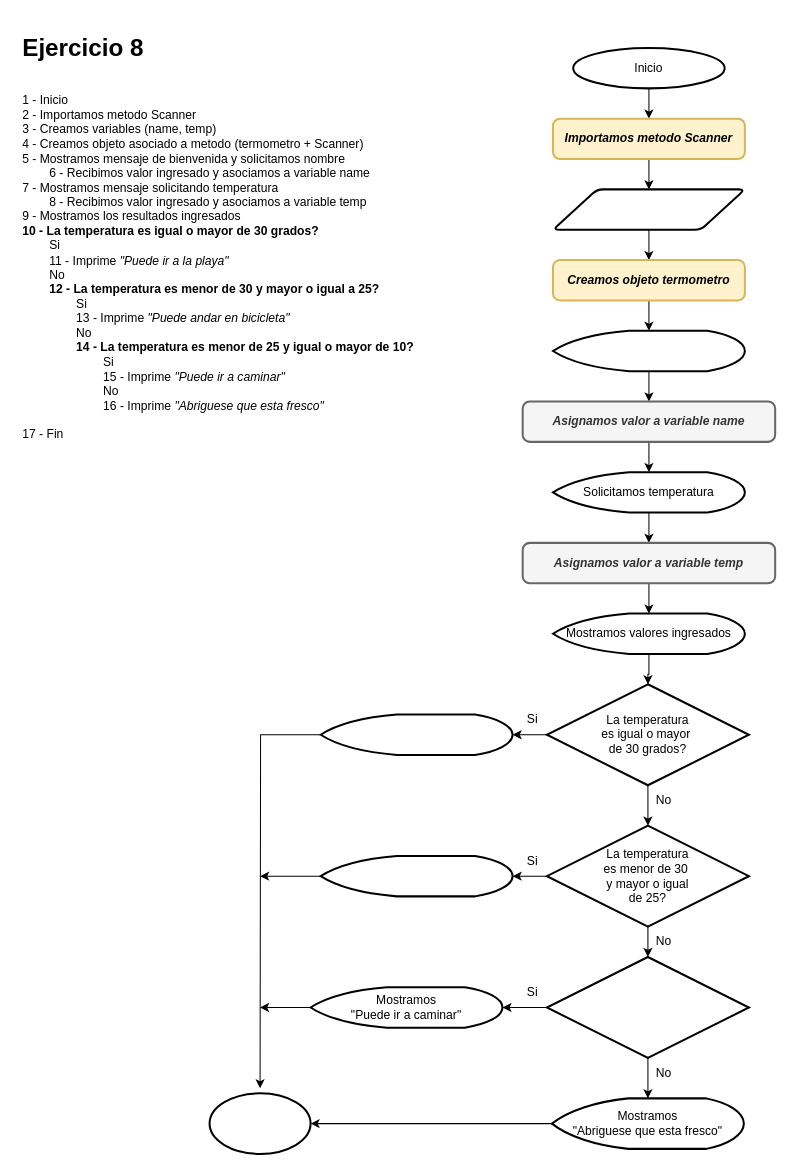
This 793x1172 diagram has some shape labels left out. Here are the shapes that lost their labels. From the top down, the centre of each, then its label:
[648,209]: Creamos variables name, temp
[648,350]: Solicitamos nombre
[416,734]: Mostramos "Puede ir a la playa"
[416,875]: Mostramos "Puede andar en bicicleta"
[647,1006]: La temperatura es menor de 25 y mayor o igual de 10?
[259,1123]: Fin
